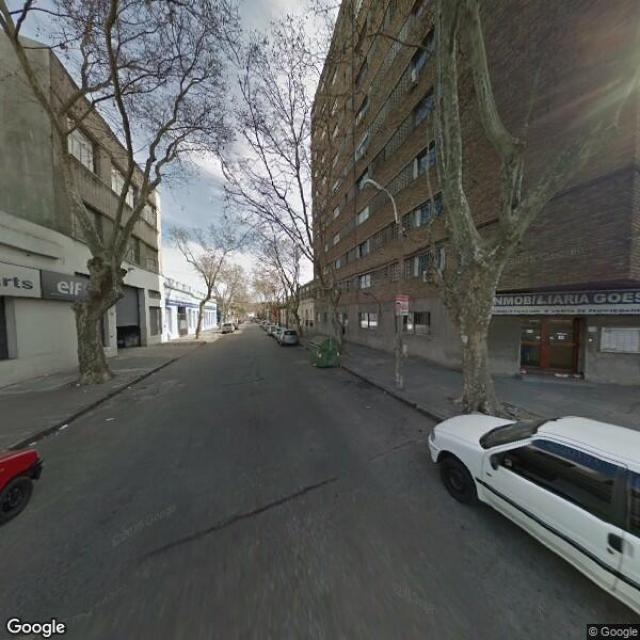garbage container: (302, 333, 348, 376)
